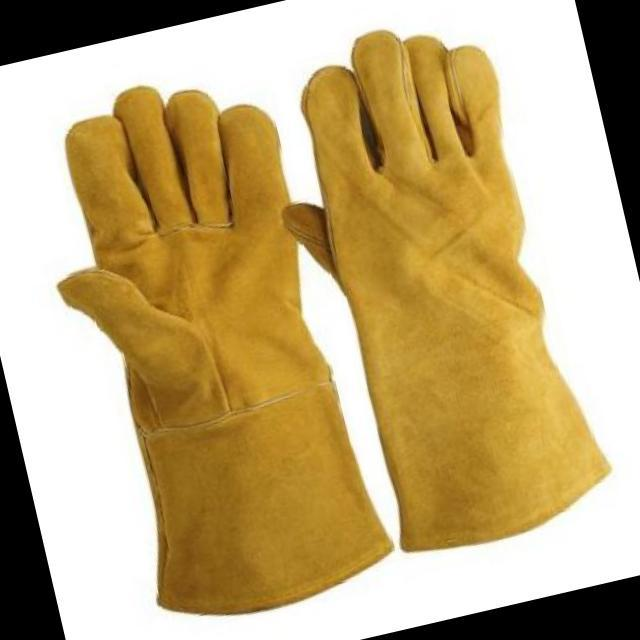gloves: (12, 59, 402, 630), (243, 4, 628, 581)
